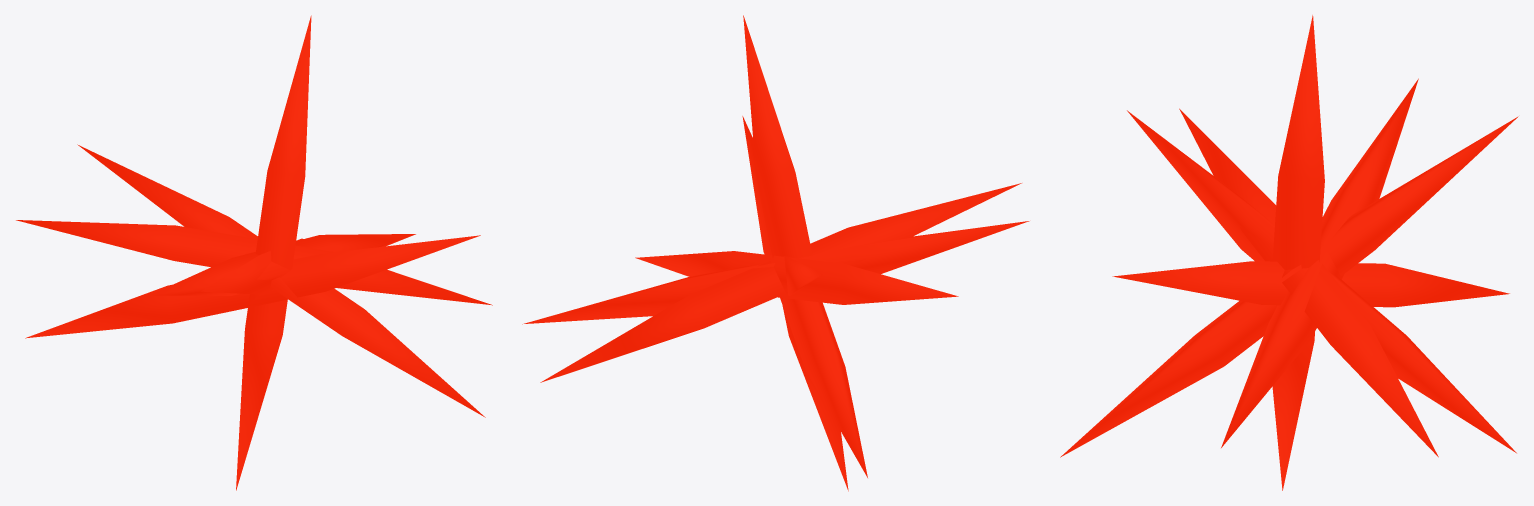
Rendered from OrangeSpark2.glb.
3 views of the same model, side by side, from view 1: azimuth 30°, elevation 25°; view 2: azimuth 150°, elevation 25°; view 3: azimuth 270°, elevation 25° (orthographic). The views are drawn at different scales.
Parts seen in each view (by area): view 1: Spark; view 2: Spark; view 3: Spark.
Part boxes in pixels (x1,y1,x2,y2): Spark: (16, 15, 492, 490); Spark: (522, 15, 1029, 491); Spark: (1060, 15, 1518, 490).
Size of the model in its own units: 0.2118 by 0.22 by 0.1735.
